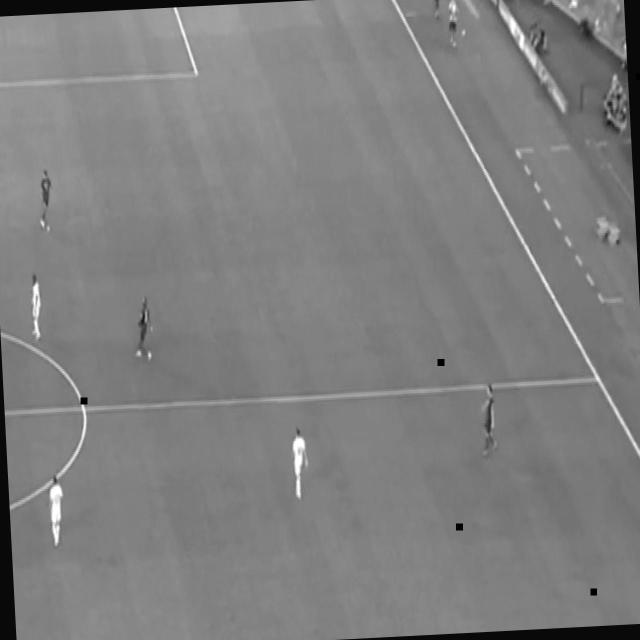ball: (461, 27, 466, 38)
player-white: (287, 427, 311, 505), (478, 384, 499, 462), (132, 294, 155, 365), (46, 472, 66, 548), (36, 168, 56, 234), (27, 273, 45, 342)
